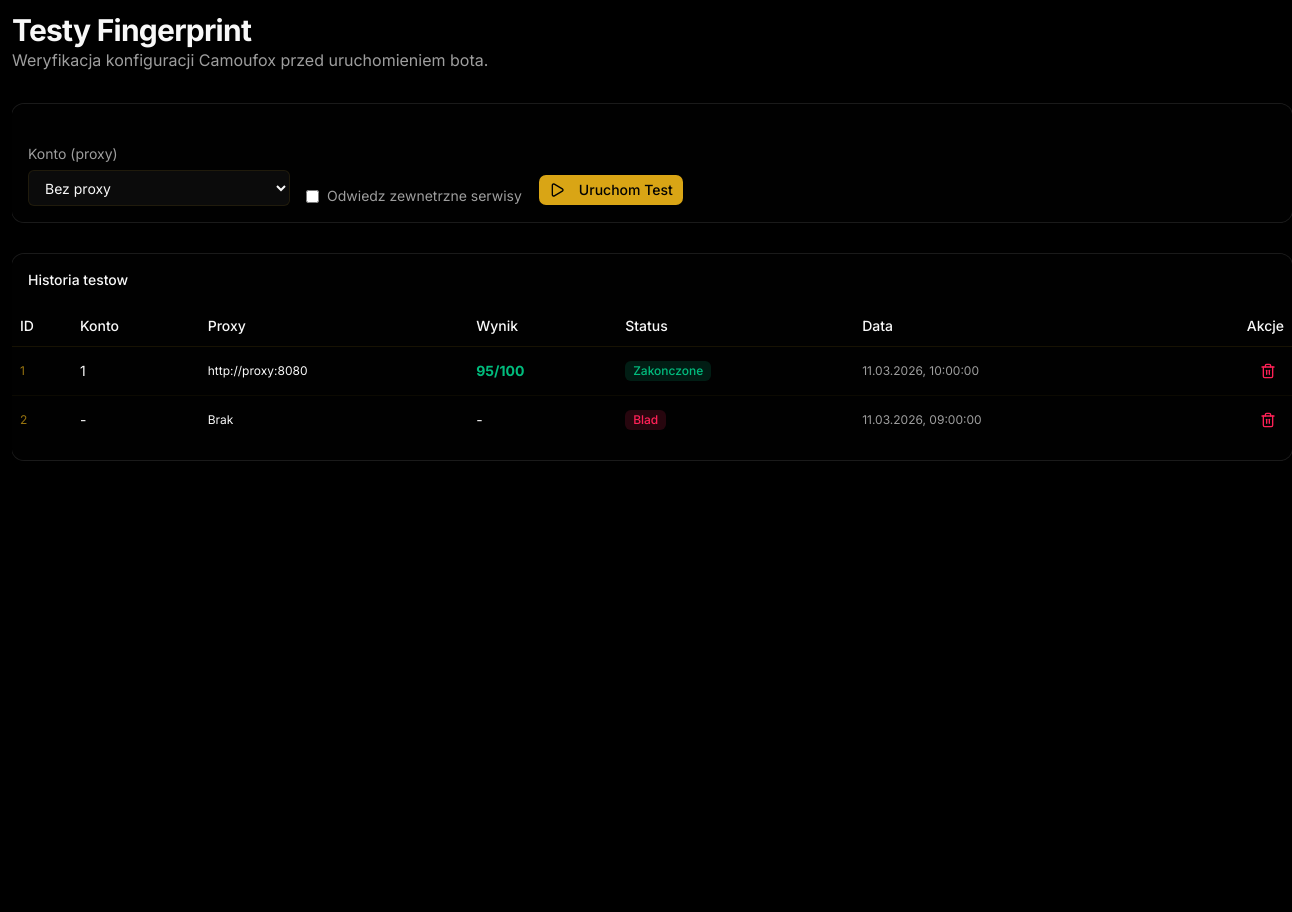
Test: FingerprintTestPage › loads test details when clicking history row
Click the text "95/100" at (485,370), box x1=476 y1=362 x2=524 y2=378
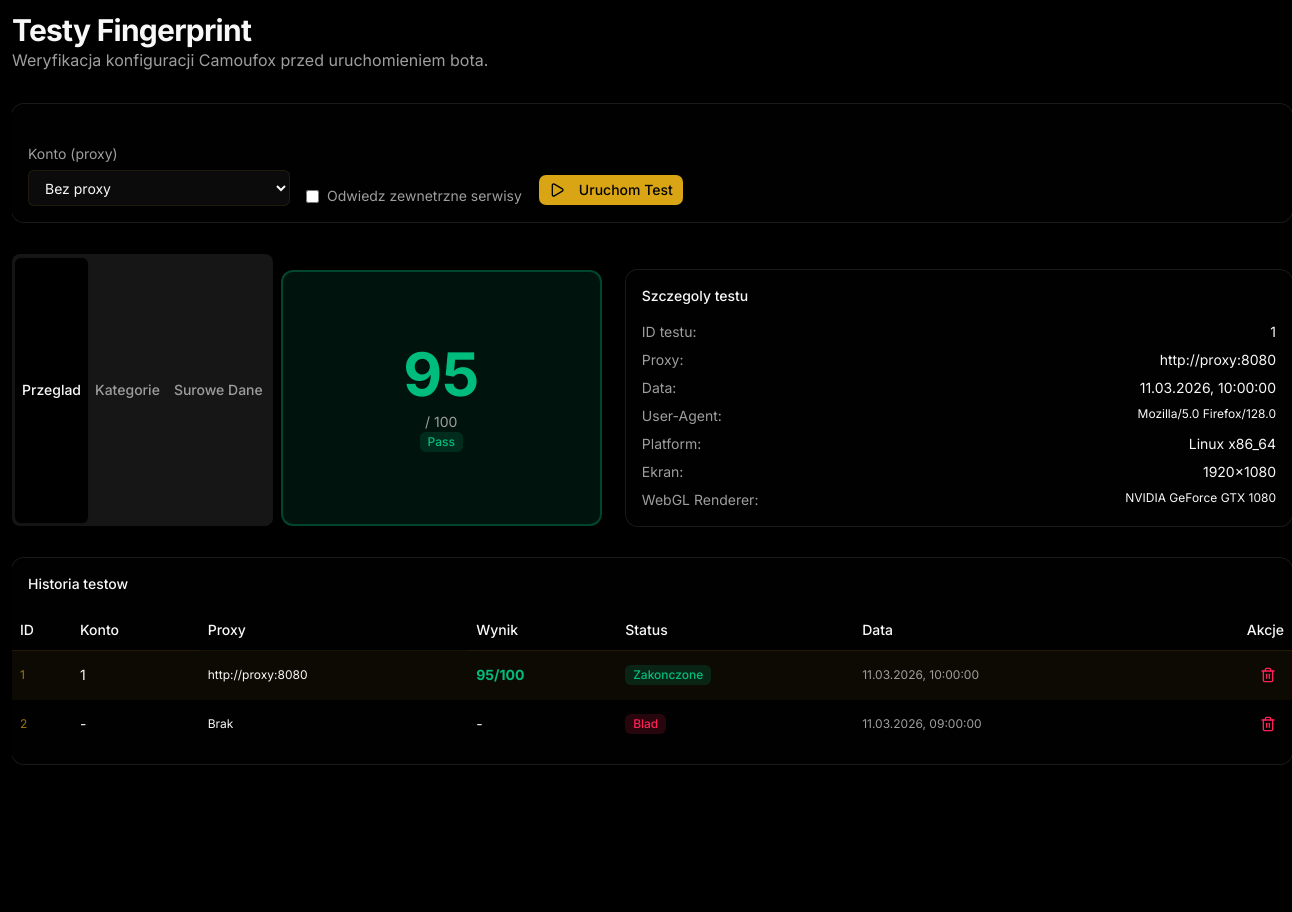
Result: the text "95" is shown at x1=403 y1=344 x2=479 y2=404
